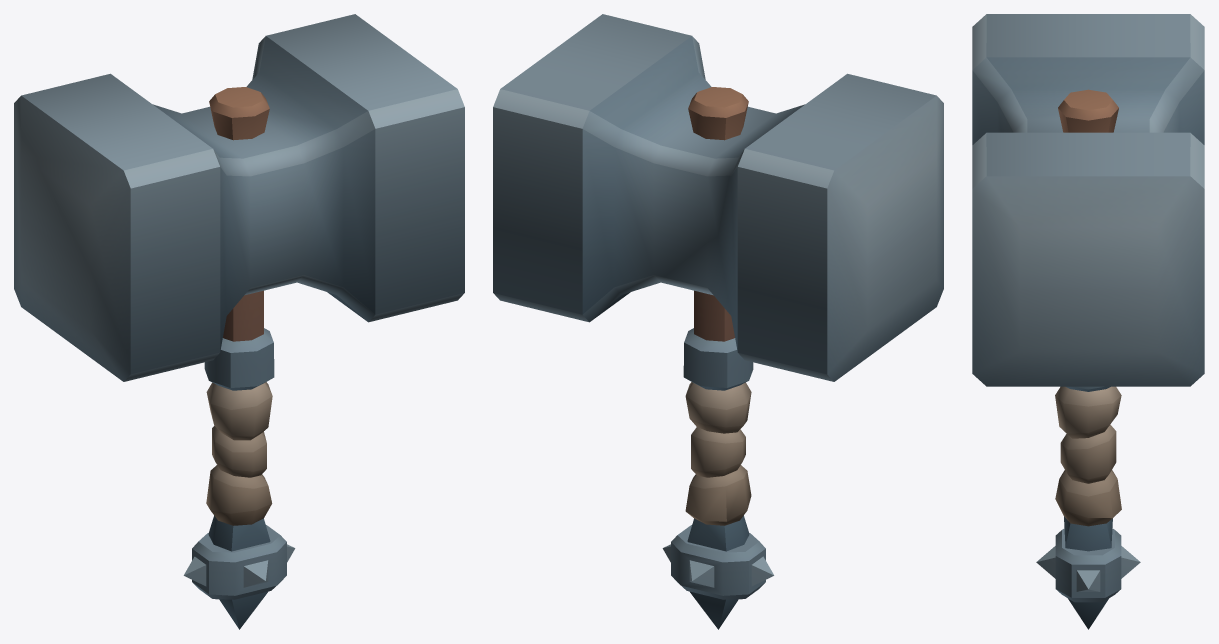
Rendered from hammer_A.glb.
3 views of the same model, side by side, from view 1: azimuth 30°, elevation 25°; view 2: azimuth 150°, elevation 25°; view 3: azimuth 270°, elevation 25° (orthographic).
Visible parts, largest first — view 1: hammer_A; view 2: hammer_A; view 3: hammer_A.
Part boxes in pixels (x1=…): hammer_A: x1=14, y1=14, x2=464, y2=629; hammer_A: x1=493, y1=14, x2=943, y2=629; hammer_A: x1=972, y1=14, x2=1204, y2=629.
Bounding box in the file's own units: 0.8135 × 1.14 × 0.4481.
Materials: 1 (1 with a texture image).
